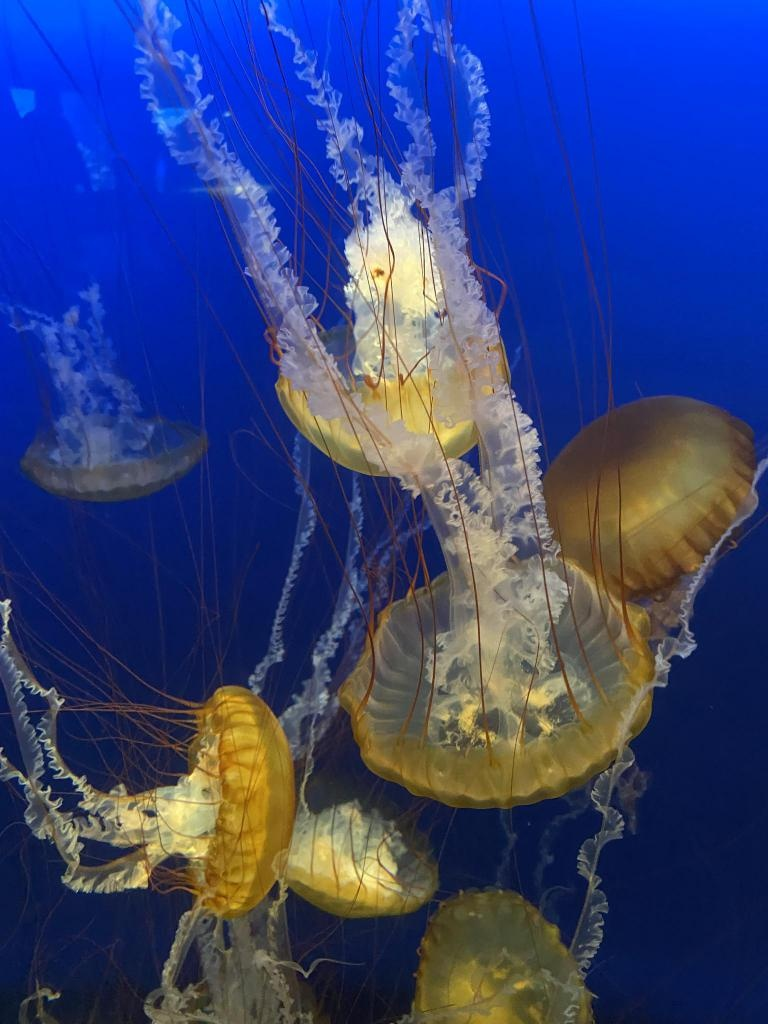jellyfish: (334, 540, 668, 798), (282, 223, 510, 471), (544, 400, 748, 626), (15, 290, 213, 498), (156, 692, 298, 916), (380, 894, 596, 1002), (275, 812, 441, 910)
